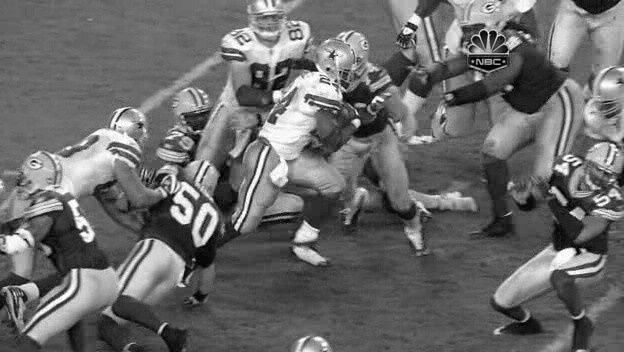person: (322, 43, 357, 87), (321, 43, 356, 87), (323, 43, 358, 87), (322, 42, 357, 86), (322, 44, 357, 88)
target_negative: (184, 33, 494, 320), (451, 57, 593, 318), (219, 179, 465, 292), (291, 127, 320, 332), (459, 83, 563, 128), (370, 341, 498, 352)
